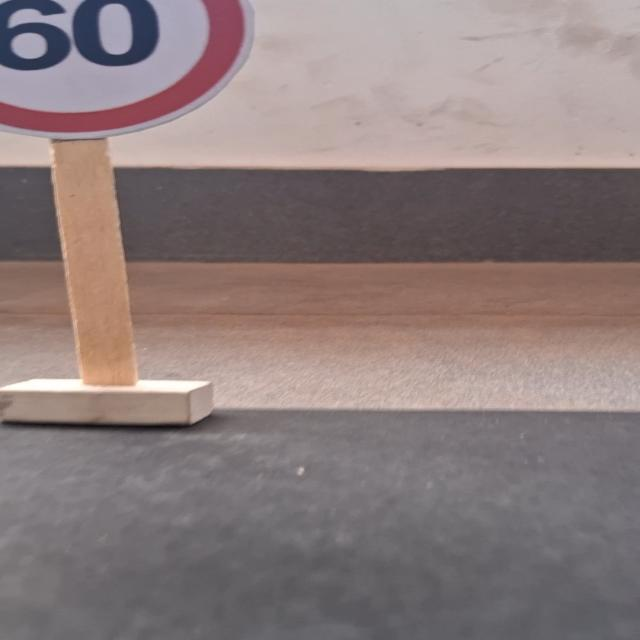Speed60: (0, 0, 253, 128)
